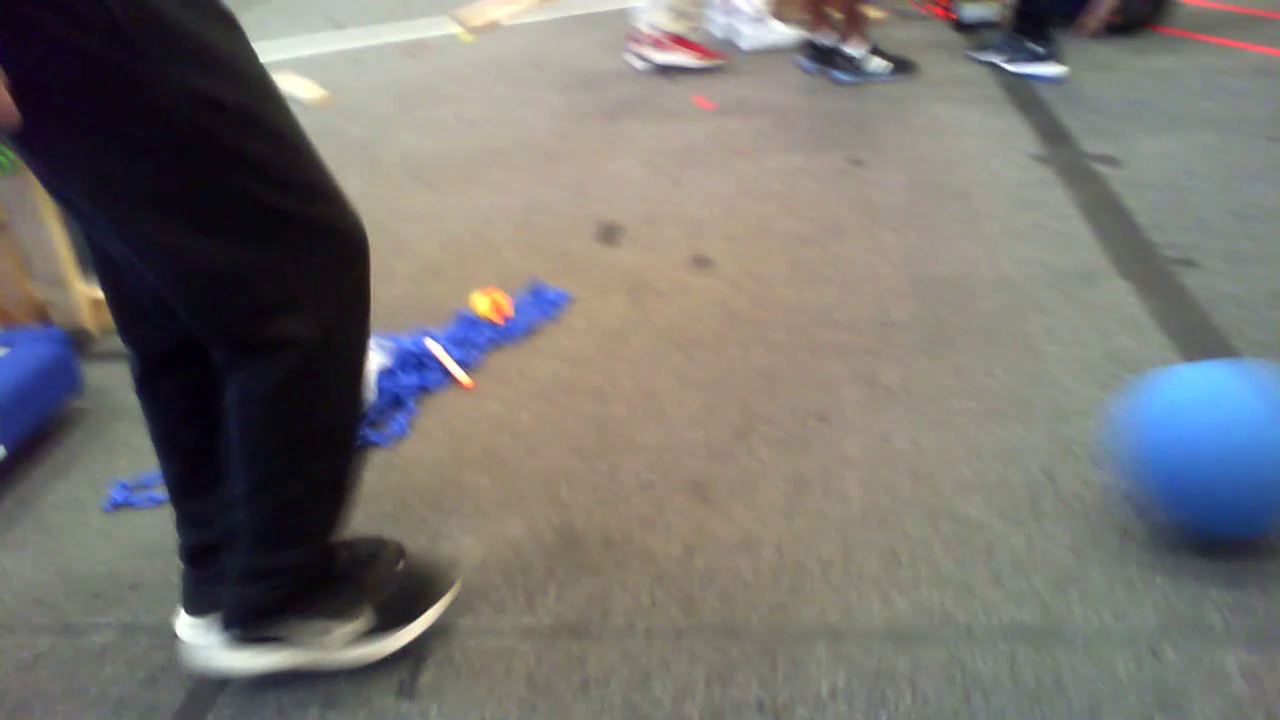blue_cargo: (1113, 351, 1280, 541)
